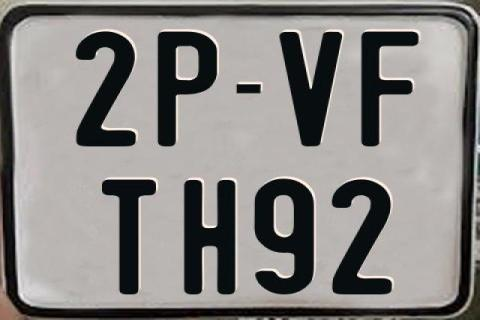0: (74, 30, 139, 150), (254, 177, 320, 295), (332, 180, 397, 298)
F: (359, 30, 417, 146)
H: (182, 180, 232, 298)
P: (158, 32, 218, 152)
T: (99, 177, 155, 293)
V: (279, 32, 342, 146)
